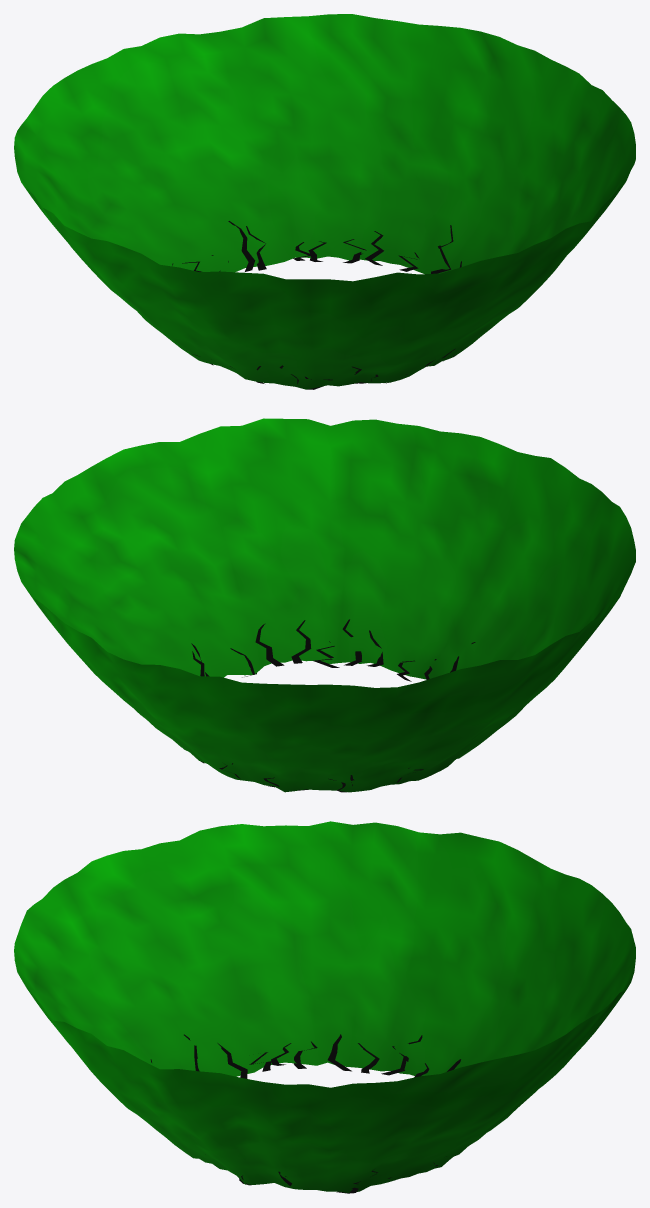
File: plume_vent.glb
3 renders of one model, top to bottom at view 1: azimuth 30°, elevation 25°; view 2: azimuth 150°, elevation 25°; view 3: azimuth 270°, elevation 25°, orthographic.
Parts seen in each view (by area): view 1: plume_vent; view 2: plume_vent; view 3: plume_vent.
Boxes of the visible parts, <box> form: plume_vent: <box>14,14,635,389</box>; plume_vent: <box>14,418,635,792</box>; plume_vent: <box>14,821,635,1193</box>.
Size of what is drawn, in the model's own units: 124 by 40.72 by 124.
